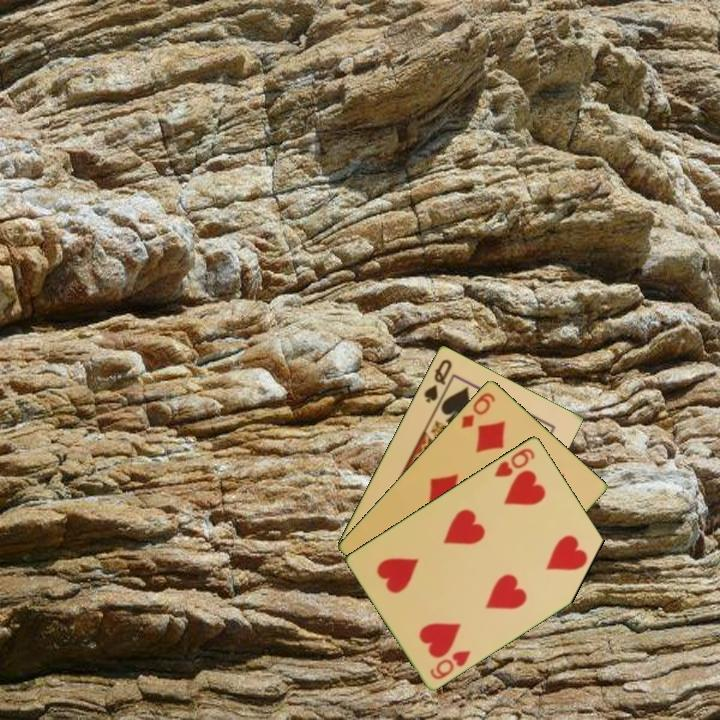6d: (457, 389, 498, 431)
6h: (426, 646, 474, 682), (491, 444, 538, 480)
Qs: (420, 355, 455, 406)
